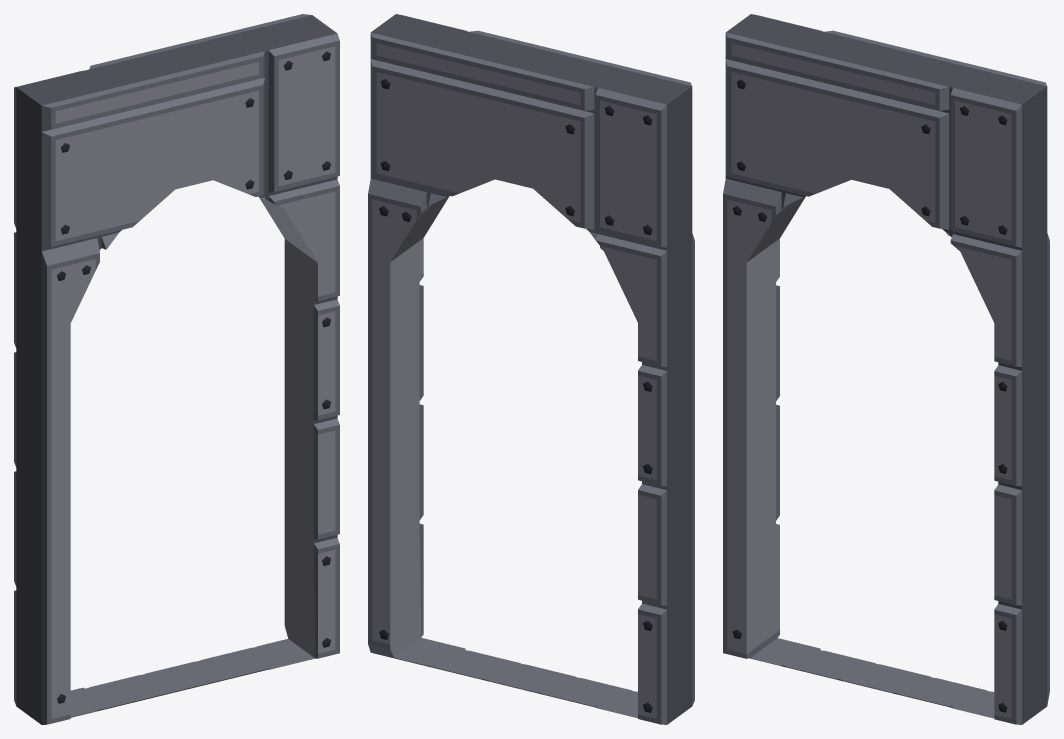
The model's file is MetalBoltsDoorframe.glb.
The picture shows the model from 3 angles, left to right: view 1: azimuth 30°, elevation 25°; view 2: azimuth 150°, elevation 25°; view 3: azimuth 330°, elevation 25°; orthographic projection.
Parts seen in each view (by area): view 1: wall_metalBolts_door; view 2: wall_metalBolts_door; view 3: wall_metalBolts_door.
Part boxes in pixels (<box>): wall_metalBolts_door: <box>14,14,339,724</box>; wall_metalBolts_door: <box>368,14,694,724</box>; wall_metalBolts_door: <box>723,14,1049,724</box>.
Size of what is drawn, in the model's own units: 2 by 4 by 0.4247.
Materials: 1 (1 with a texture image).
